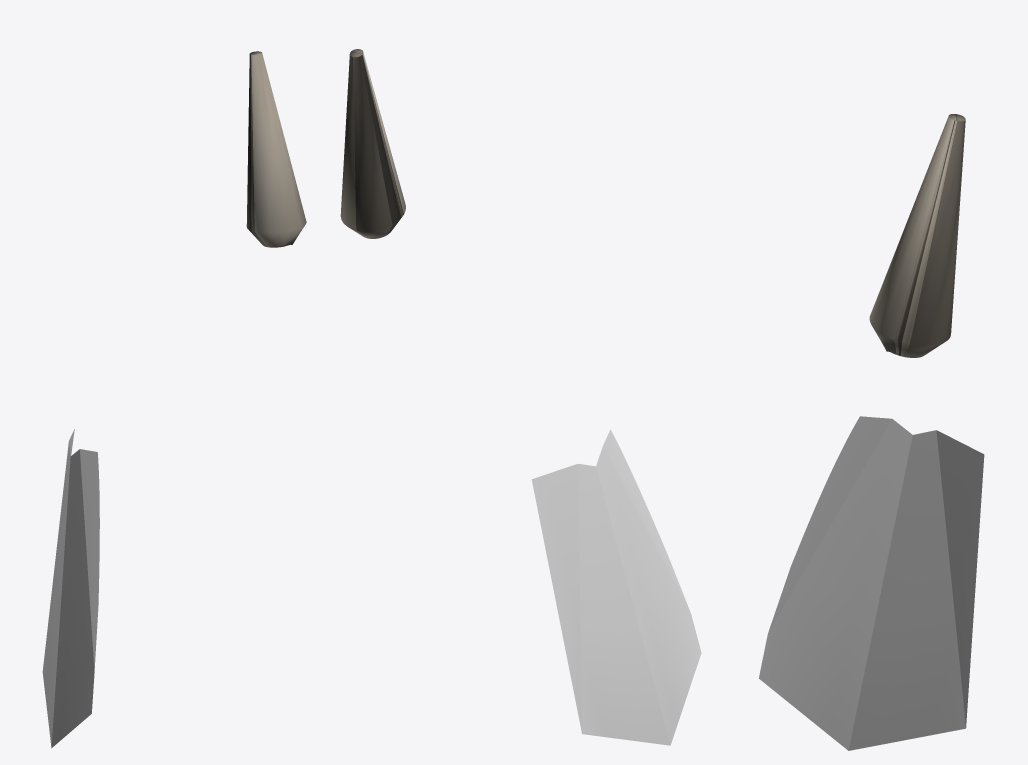
Rendered from lusi_prop_elite_4.dae.
The picture shows the model from 3 angles, left to right: view 1: azimuth 30°, elevation 25°; view 2: azimuth 150°, elevation 25°; view 3: azimuth 270°, elevation 25°; orthographic projection. The views are drawn at different scales.
Parts seen in each view (by area): view 1: lusi_prop_elite_4; view 2: lusi_prop_elite_4; view 3: lusi_prop_elite_4.
Boxes of the visible parts, x1,y1,x2,y2 form: lusi_prop_elite_4: (42, 51, 306, 748); lusi_prop_elite_4: (340, 49, 701, 745); lusi_prop_elite_4: (759, 114, 984, 750).
Size of the model in its own units: 0.5006 by 0.3067 by 1.08.
